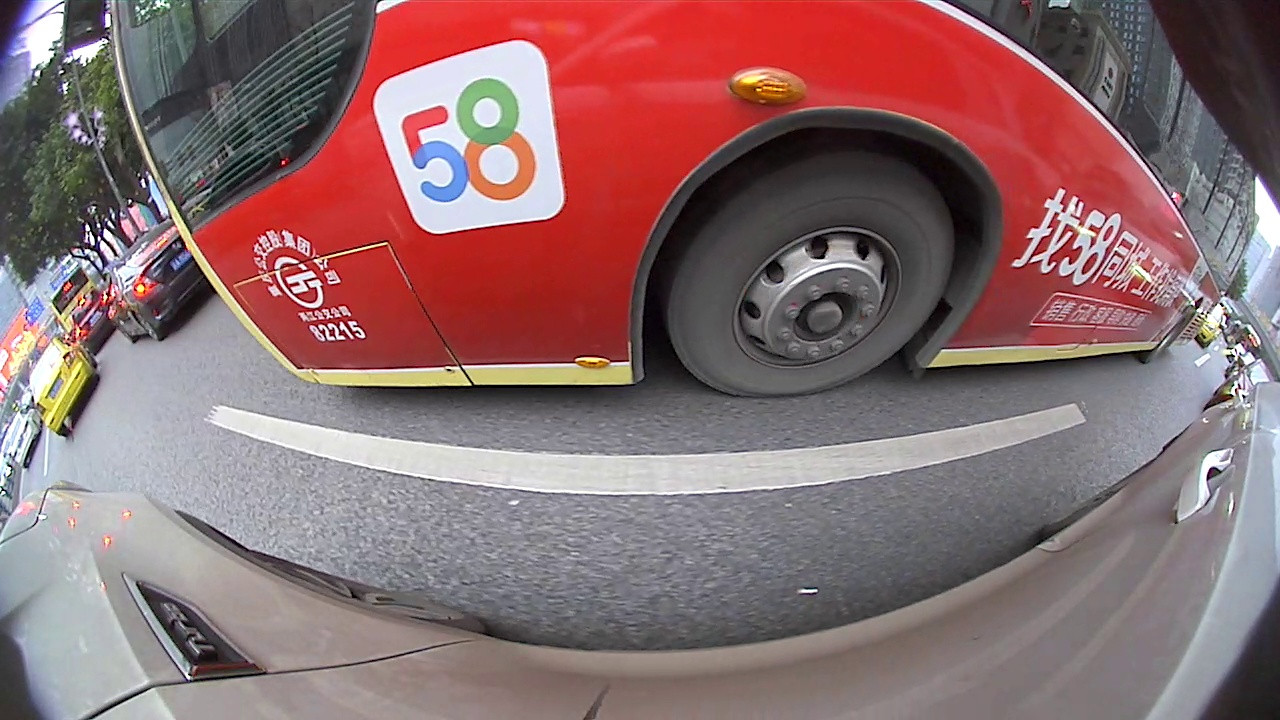bus: (57, 0, 1263, 403)
car: (106, 220, 215, 342), (23, 333, 102, 442)
front: (664, 142, 960, 399)
rear: (1136, 310, 1199, 368), (132, 309, 164, 343)
